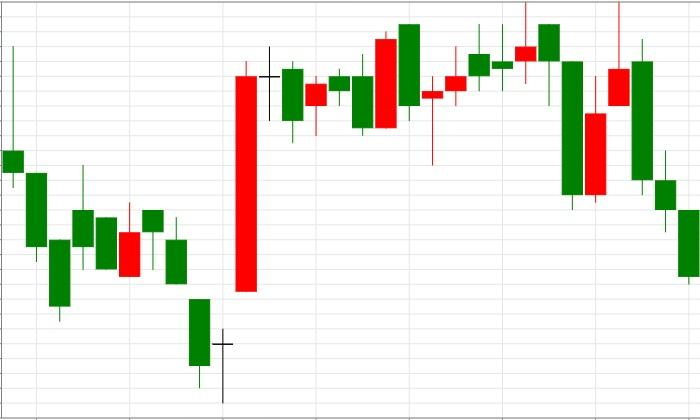evening_star_fall: (188, 46, 304, 404)
three_black_crows_fall: (561, 2, 700, 285)
